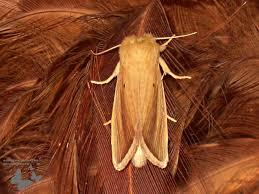insect: (89, 30, 200, 173)
